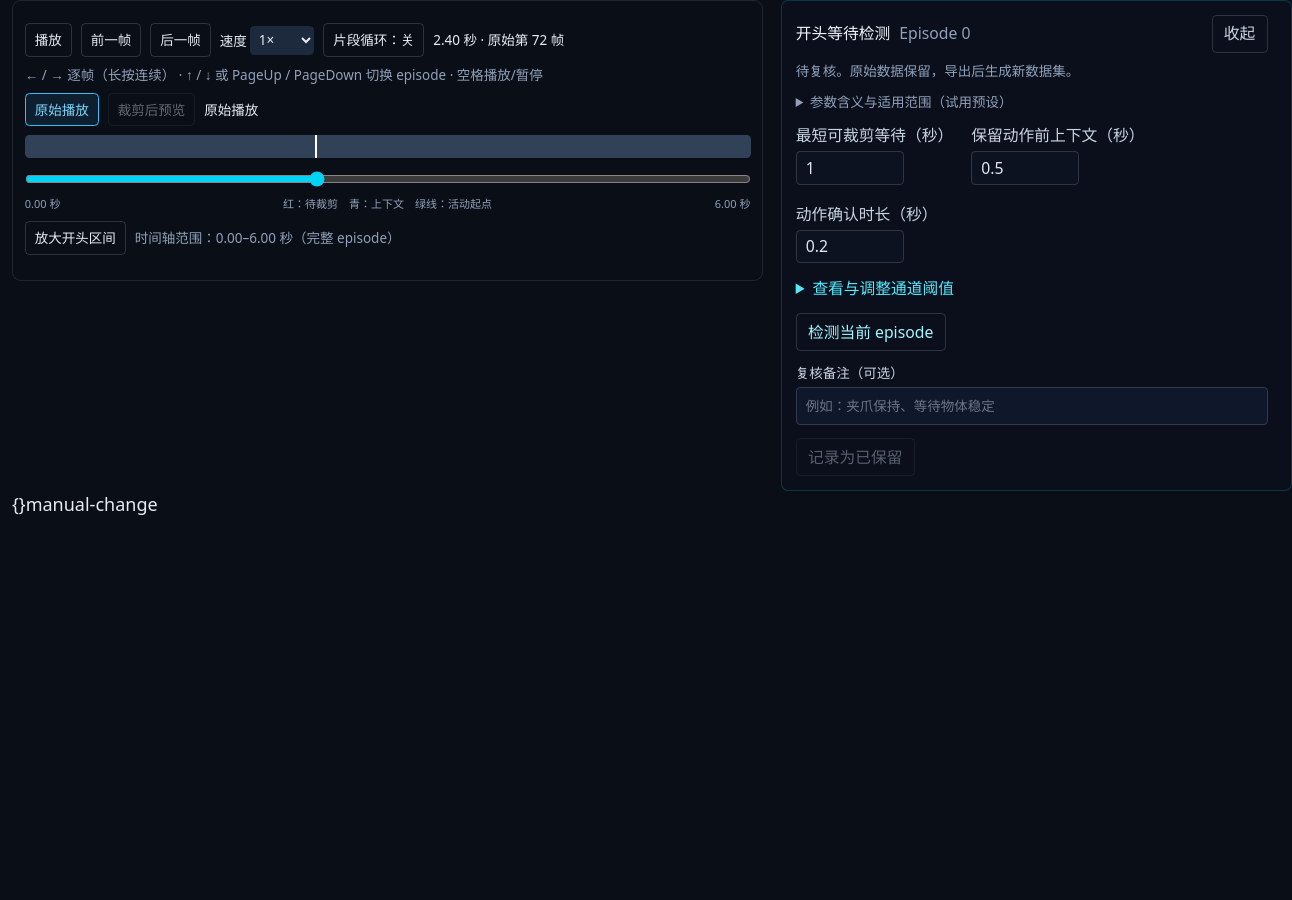
Test case: human review of initial waiting › a rejected early significant pulse still exposes its frame and values
Click the button "检测当前 episode".
click(871, 332)  # box [796,313,946,351]
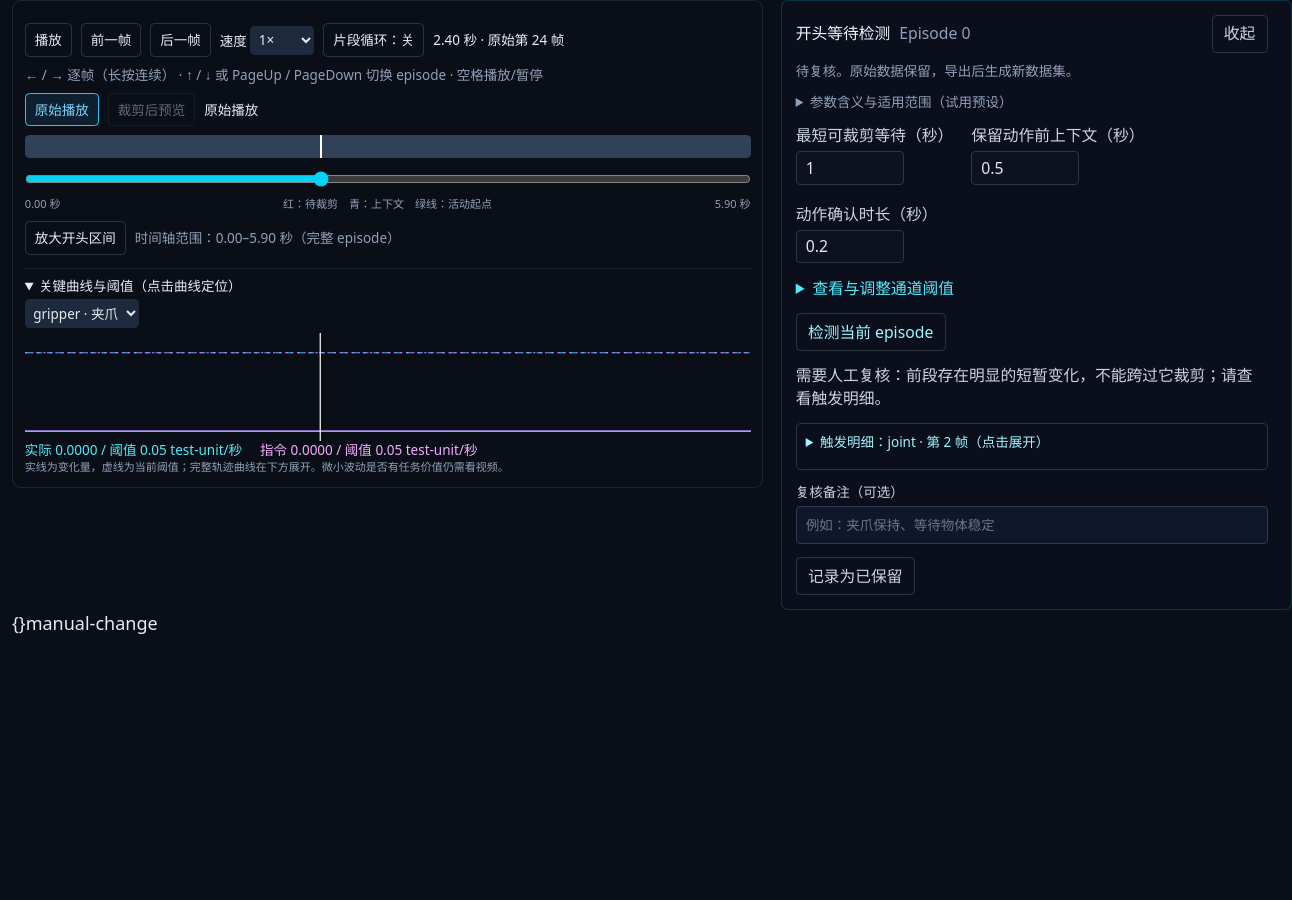
Check: the text "需要人工复核：前段存在明显的短暂变化，不能跨过它裁剪；请查看触发明细。" is shown, box [796,364,1268,410]
Click the heading "触发明细：joint · 第 2 帧（点击展开）".
click(935, 442)  # box [820,433,1049,451]
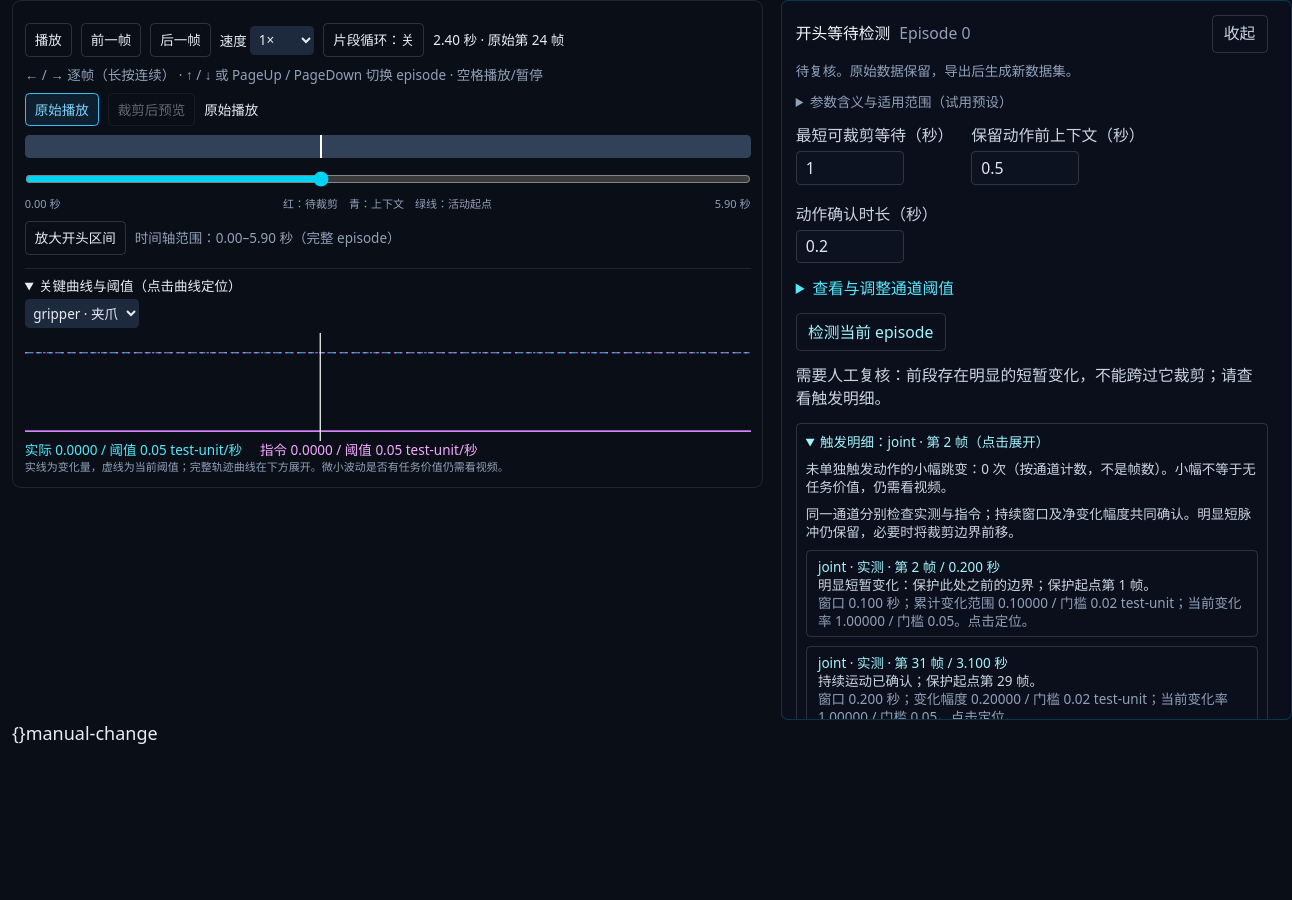
Check: the button "joint · 实测 · 第 2 帧" shows "0.10000", box [806,550,1258,637]
